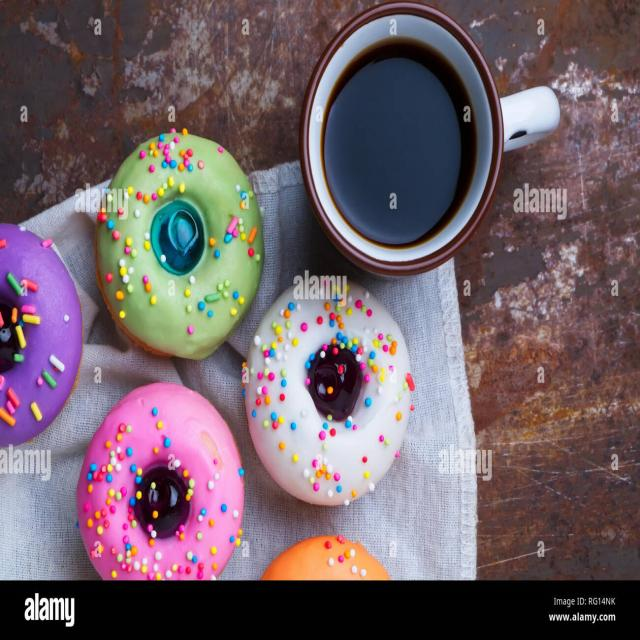donut: (244, 273, 416, 504), (97, 130, 267, 360), (76, 378, 244, 582), (0, 220, 84, 450)
kopi hitam: (302, 3, 508, 275)
